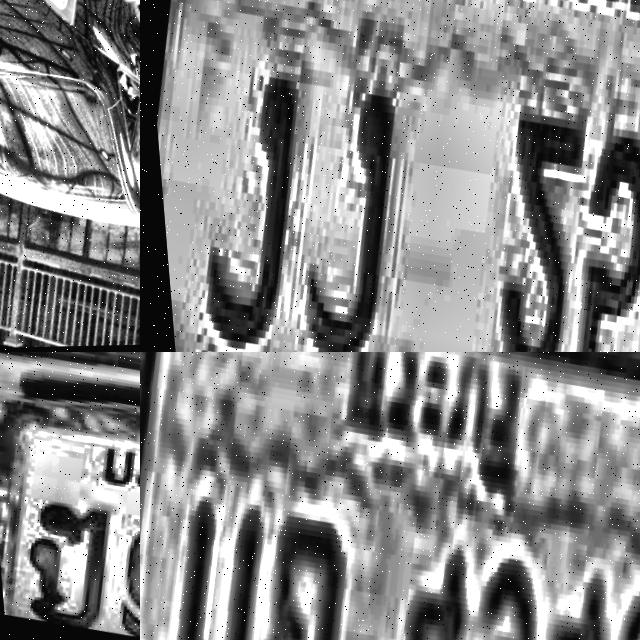license-plate: (140, 0, 640, 352), (140, 352, 640, 640), (0, 352, 140, 640)
